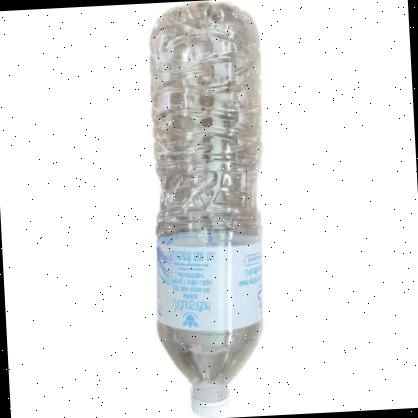bottle: (138, 0, 273, 418)
cap: (188, 384, 232, 418)
label: (152, 232, 266, 334)
